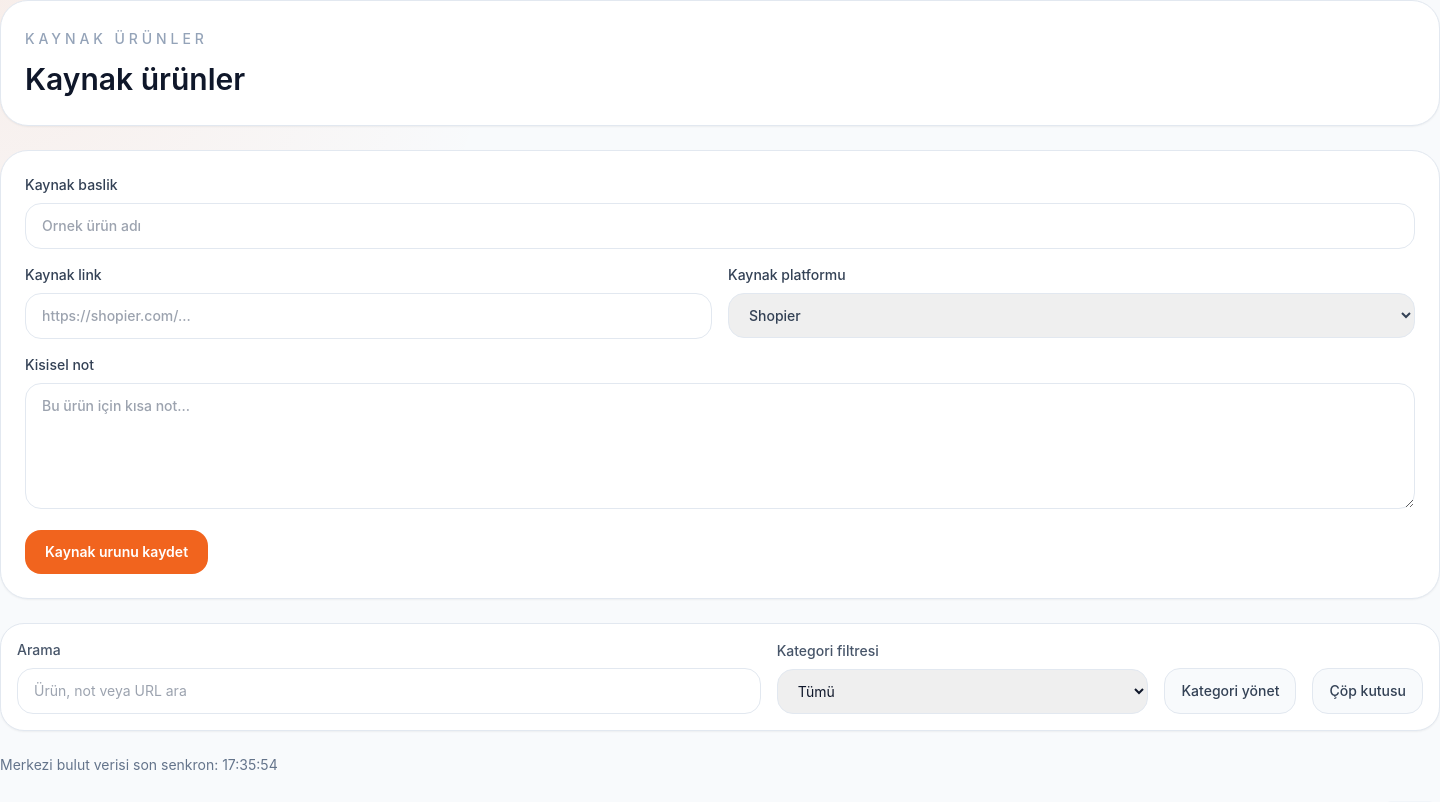
Scenario: SourceProductsPage › renders source products in category sections, filters by category, and opens the category manager
The width and height of the screenshot is (1440, 802).
Expected: the heading "Kaynak ürünler" is shown, [25,61,245,97]
Select "Tekstil" in the dropdown labelled "Kategori filtresi": (963, 692) [777,669,1148,714]
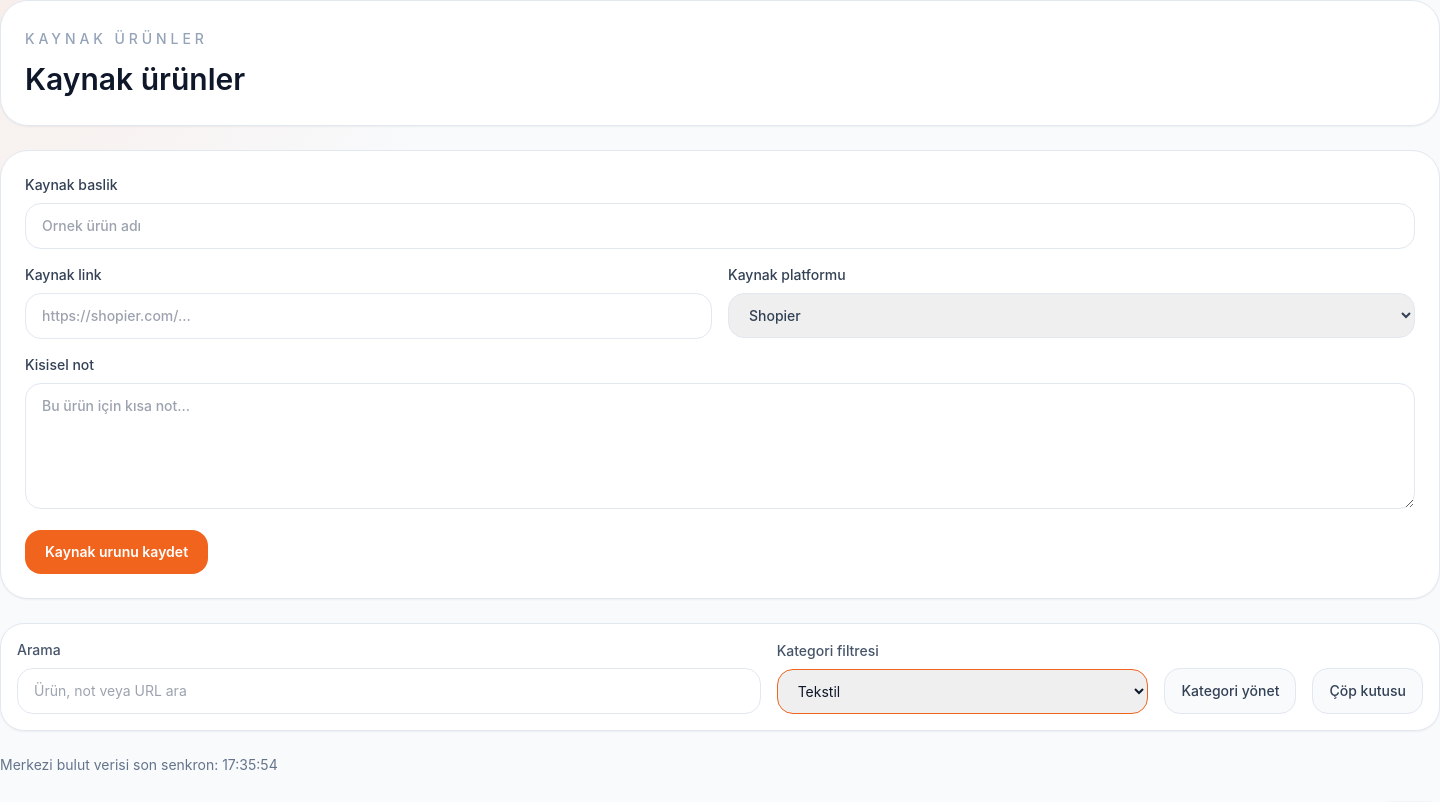
Click the button "Kategori yönet": (1230, 691) [1164,668,1296,714]
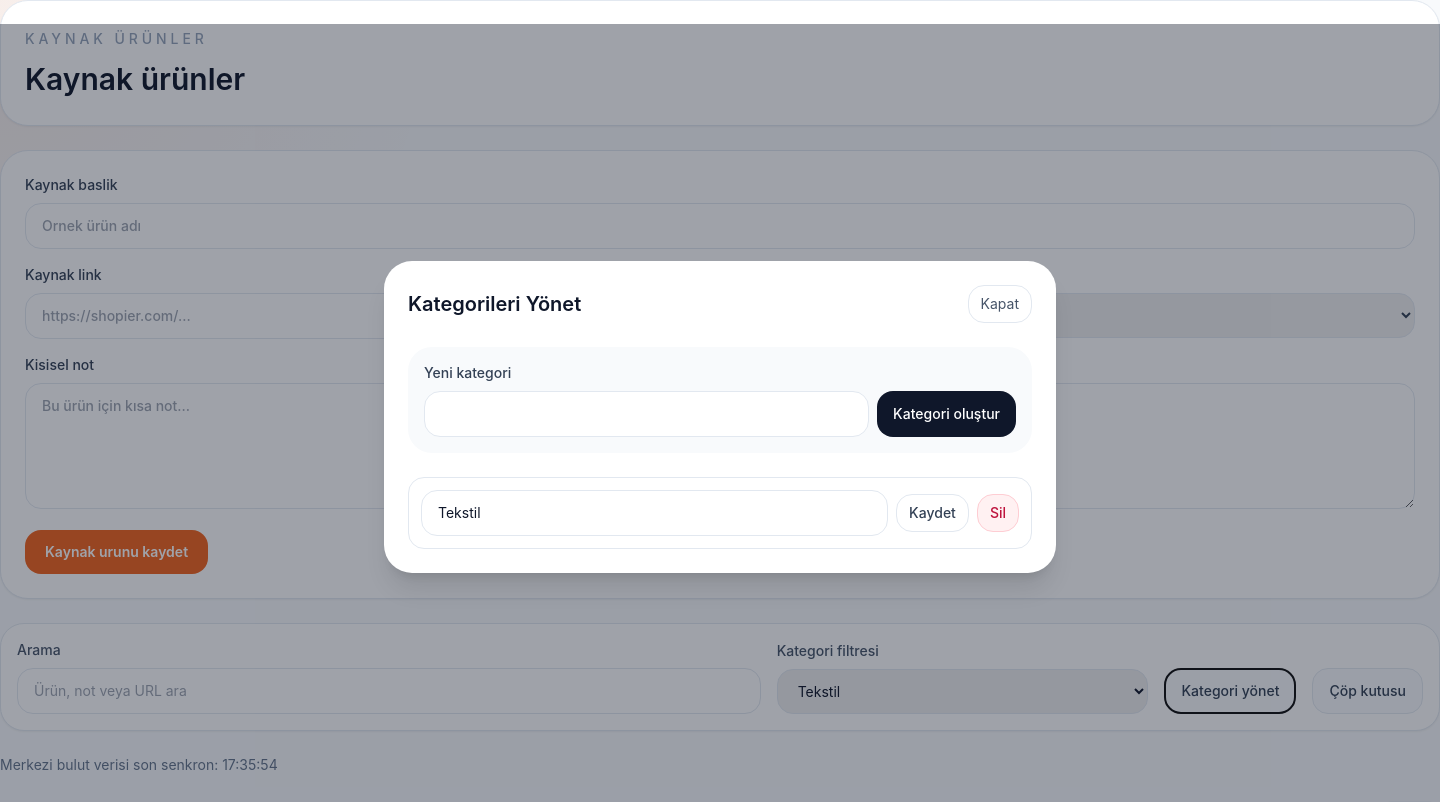
Result: the dialog is shown at [384,261,1056,573]
